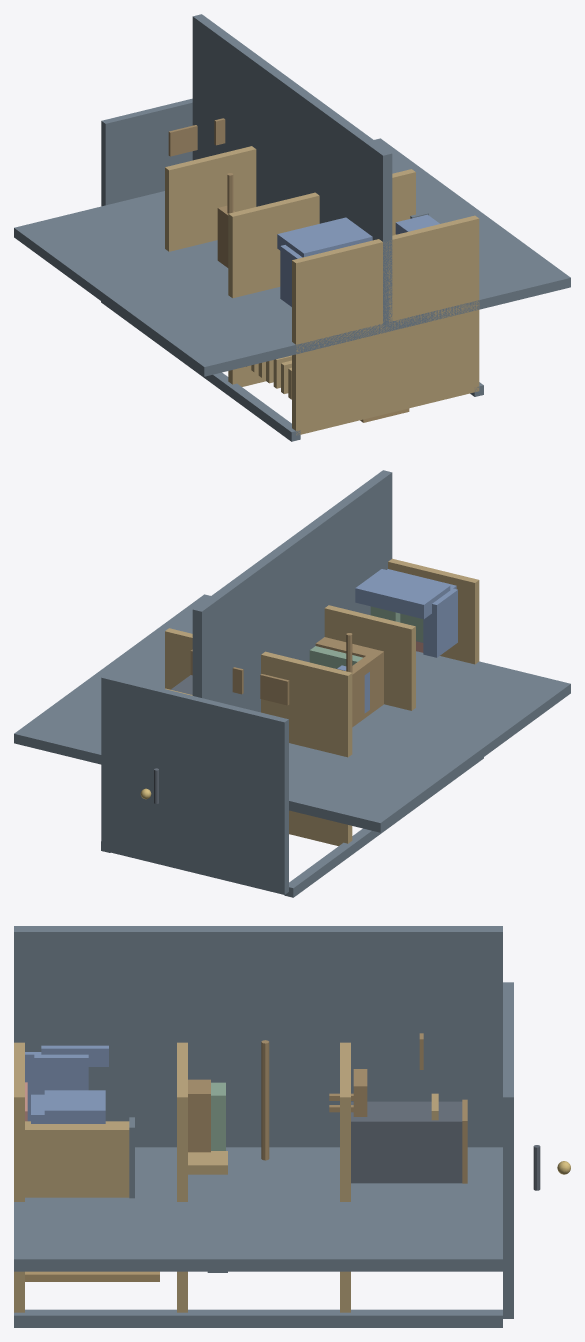
Rendered from squidward-interior.glb.
The picture shows the model from 3 angles, top to bottom: view 1: azimuth 30°, elevation 25°; view 2: azimuth 150°, elevation 25°; view 3: azimuth 270°, elevation 25°; orthographic projection. The views are drawn at different scales.
Visible parts, largest first — view 1: floor_0.0, wall_left, wall_back, wall_right, floor_1.2, floor_2.4, rooftop, couch_back, pillar_l, art_frame_0, couch_arm_l, headboard; view 2: rooftop, wall_left, wall_back, floor_2.4, wall_right, floor_1.2, couch_back, floor_0.0, couch_arm_l, pillar_l, headboard, bed_frame (+2 smaller); view 3: wall_back, wall_right, pillar_r, piano_body, counter, rooftop, floor_0.0, floor_1.2, floor_2.4, couch_arm_r, chair1_back, bed_frame (+8 smaller).
Part boxes in pixels (x1,y1,x2,y2): floor_0.0: (292, 215, 479, 435); wall_left: (14, 191, 387, 376); wall_back: (192, 14, 392, 328); wall_right: (374, 138, 570, 331); floor_1.2: (228, 169, 415, 386); floor_2.4: (165, 146, 256, 251); rooftop: (101, 98, 192, 206); couch_back: (277, 217, 372, 257); pillar_l: (101, 301, 300, 441); art_frame_0: (168, 125, 197, 156); couch_arm_l: (280, 245, 302, 306); headboard: (217, 205, 234, 267); rooftop: (101, 674, 288, 894); wall_left: (289, 651, 570, 832); wall_back: (192, 470, 392, 712); floor_2.4: (165, 628, 352, 845); wall_right: (14, 594, 210, 764); floor_1.2: (324, 605, 415, 710); couch_back: (355, 569, 450, 619); floor_0.0: (388, 558, 479, 664); couch_arm_l: (423, 588, 457, 657); pillar_l: (284, 757, 483, 897); headboard: (345, 655, 377, 727); bed_frame: (315, 637, 383, 710); wall_back: (14, 926, 502, 1147); wall_right: (14, 1147, 502, 1271); pillar_r: (14, 1309, 502, 1327); piano_body: (351, 1101, 462, 1183); counter: (25, 1121, 129, 1197); rooftop: (503, 982, 513, 1318); floor_0.0: (14, 1042, 24, 1312); floor_1.2: (177, 1042, 187, 1312); floor_2.4: (340, 1042, 350, 1312); couch_arm_r: (34, 1054, 88, 1094); chair1_back: (44, 1090, 105, 1123); bed_frame: (188, 1079, 210, 1152).
Bounding box in the file's own units: 4 × 2.75 × 4.1.
